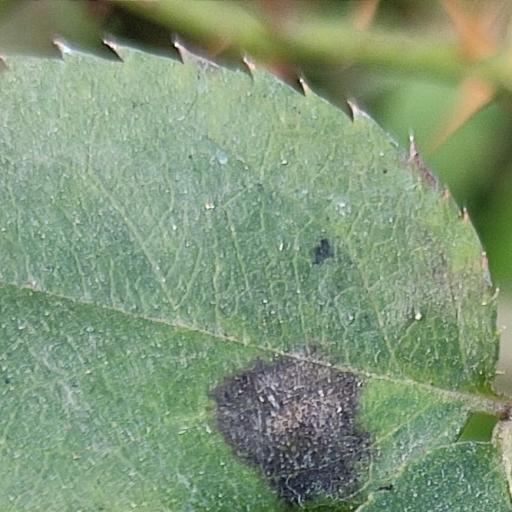black_spot: (0, 48, 511, 511)
